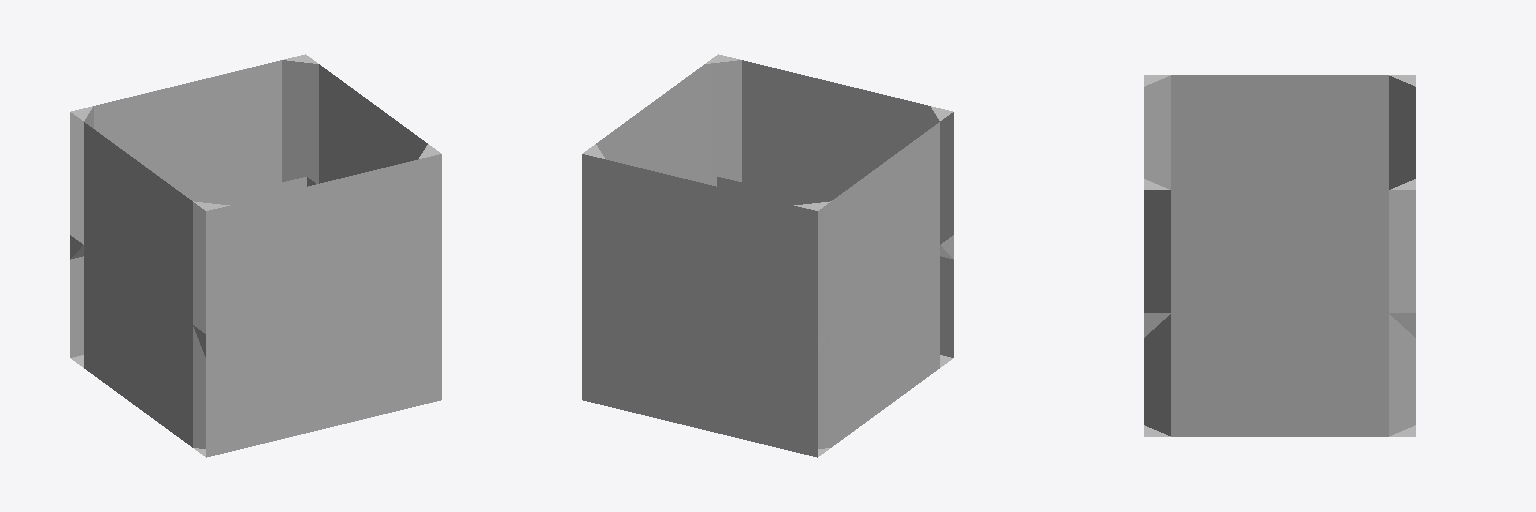
File: tech_tile_window.obj
3 renders of one model, left to right at view 1: azimuth 30°, elevation 25°; view 2: azimuth 150°, elevation 25°; view 3: azimuth 270°, elevation 25°, orthographic.
Visible parts, largest first — view 1: Plane.001; view 2: Plane.001; view 3: Plane.001.
Part boxes in pixels (x1,y1,x2,y2): Plane.001: (70,54,441,457); Plane.001: (582,54,953,457); Plane.001: (1144,75,1415,436).
Size of the model in its own units: 1 by 1 by 1.